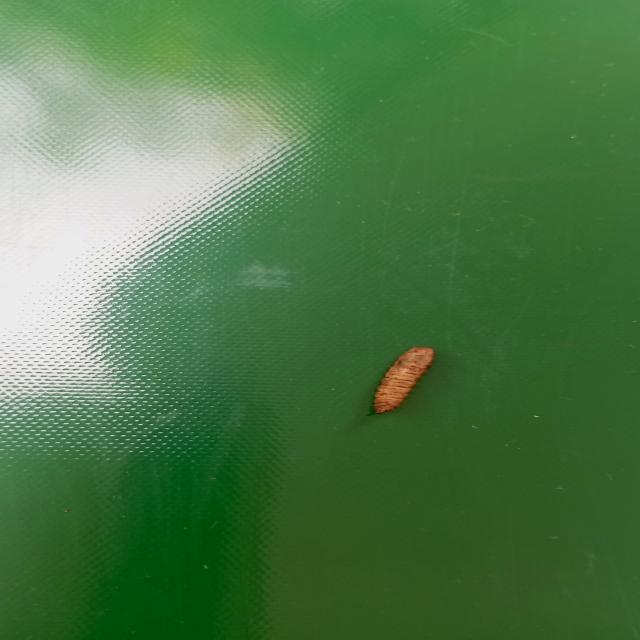Maggot: (370, 347, 436, 417)
